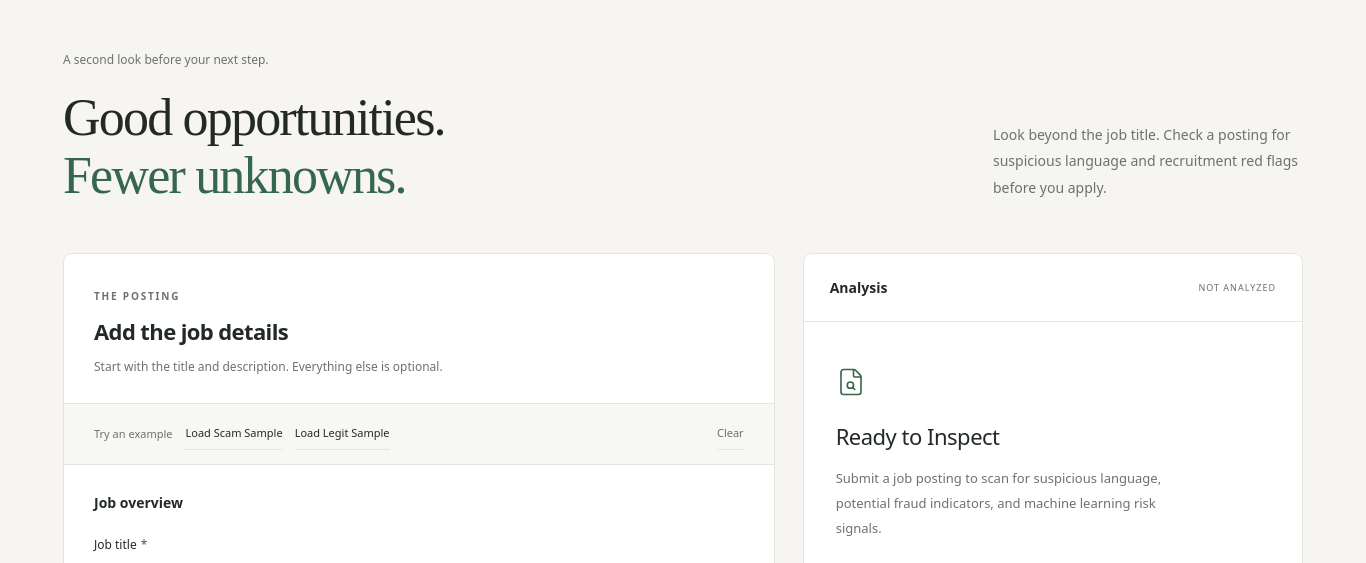
Scenario: workspace › marks edited results outdated
Click the button "Load Scam Sample" at x=234, y=434, box left=186, top=418, right=283, bottom=450
(page scrolled)
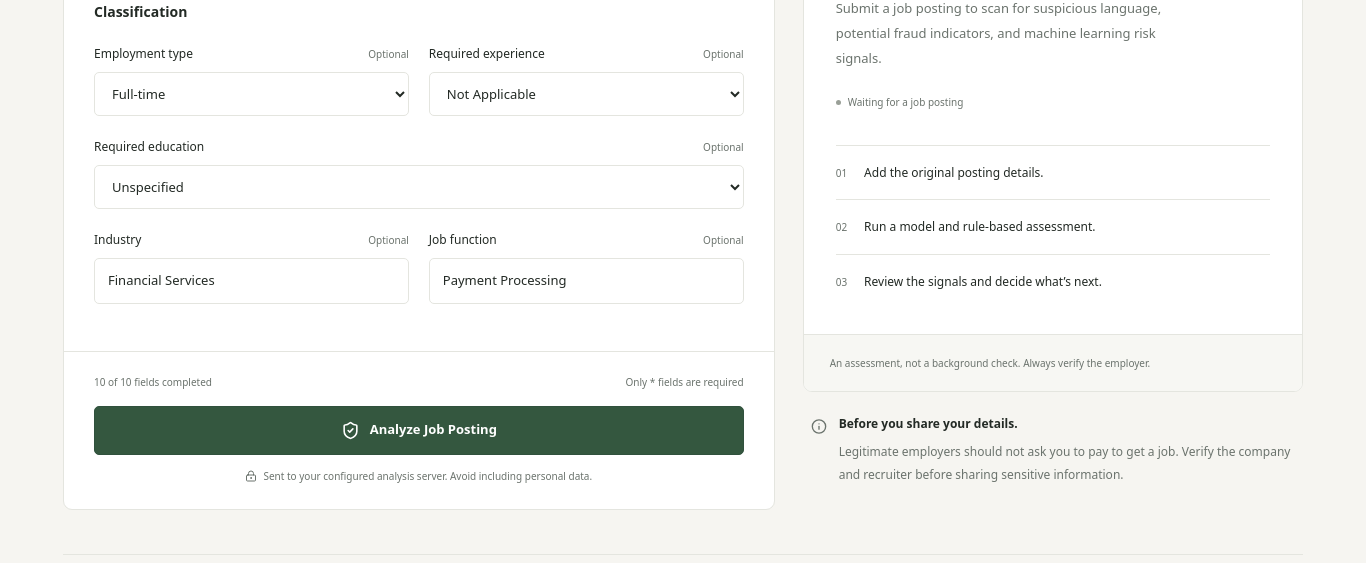
Click the button "Analyze Job Posting" at x=419, y=430, box left=94, top=406, right=744, bottom=454
(page scrolled)
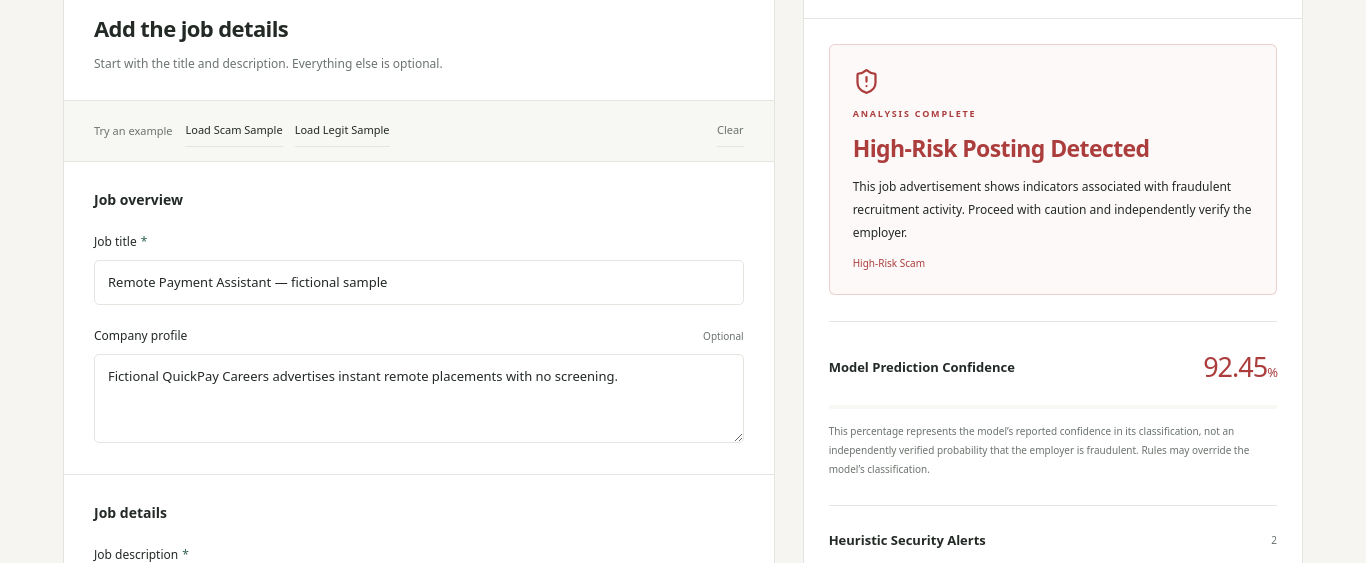
Expected: the heading "High-Risk Posting Detected" is shown, left=853, top=133, right=1150, bottom=164
Replace the text in the field labelled "Job title *" with "New posting" at x=419, y=283, box left=94, top=260, right=744, bottom=305
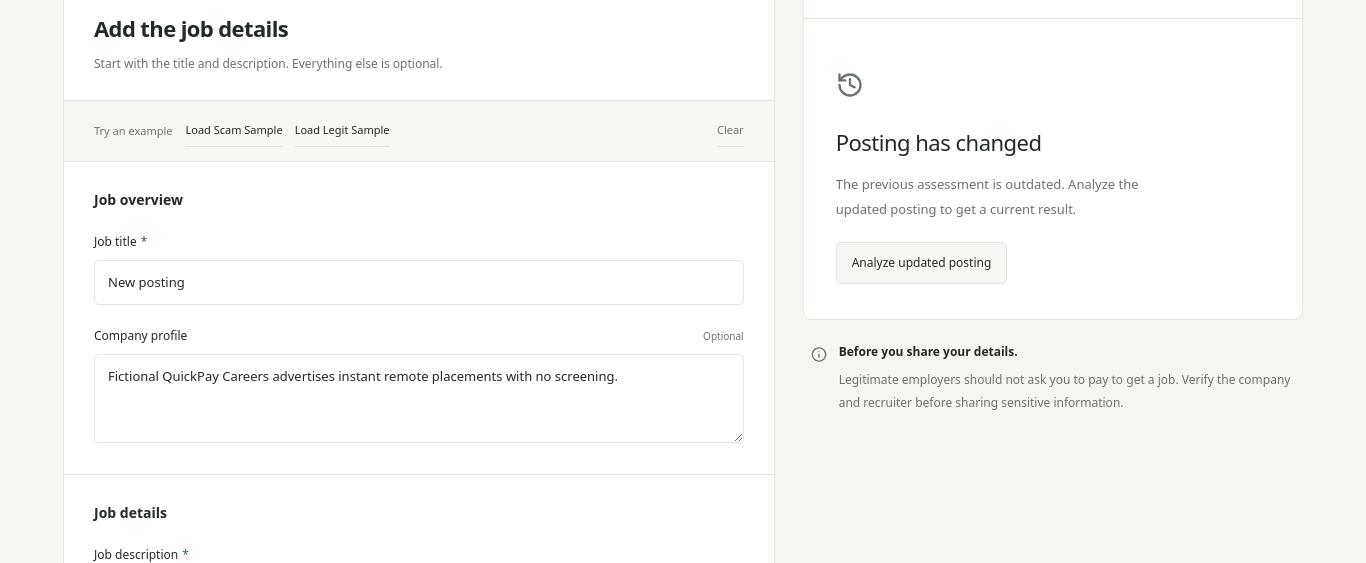
Expected: the heading "Posting has changed" is shown, left=836, top=128, right=1042, bottom=158
Expected: the heading "High-Risk Posting Detected" is gone
